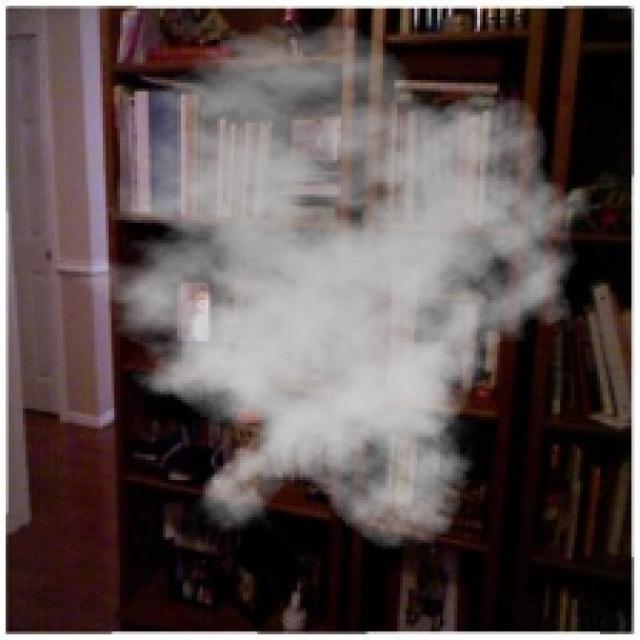Smoke: (51, 22, 606, 552)
